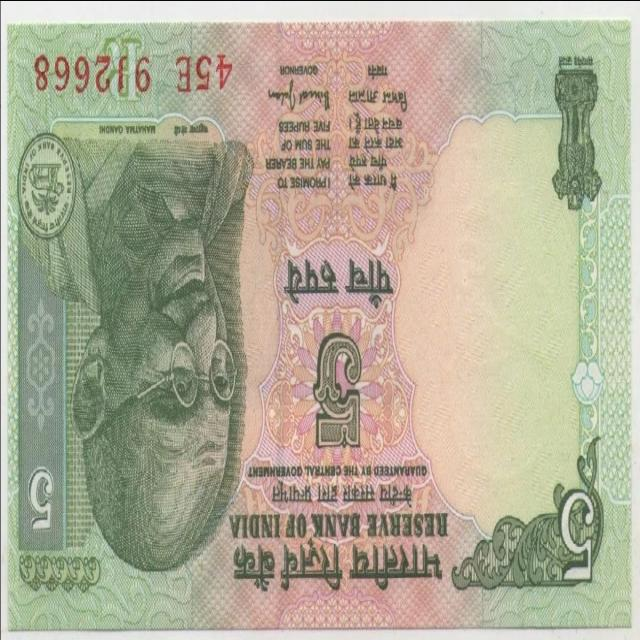5IndianRupees: (5, 29, 634, 630)
